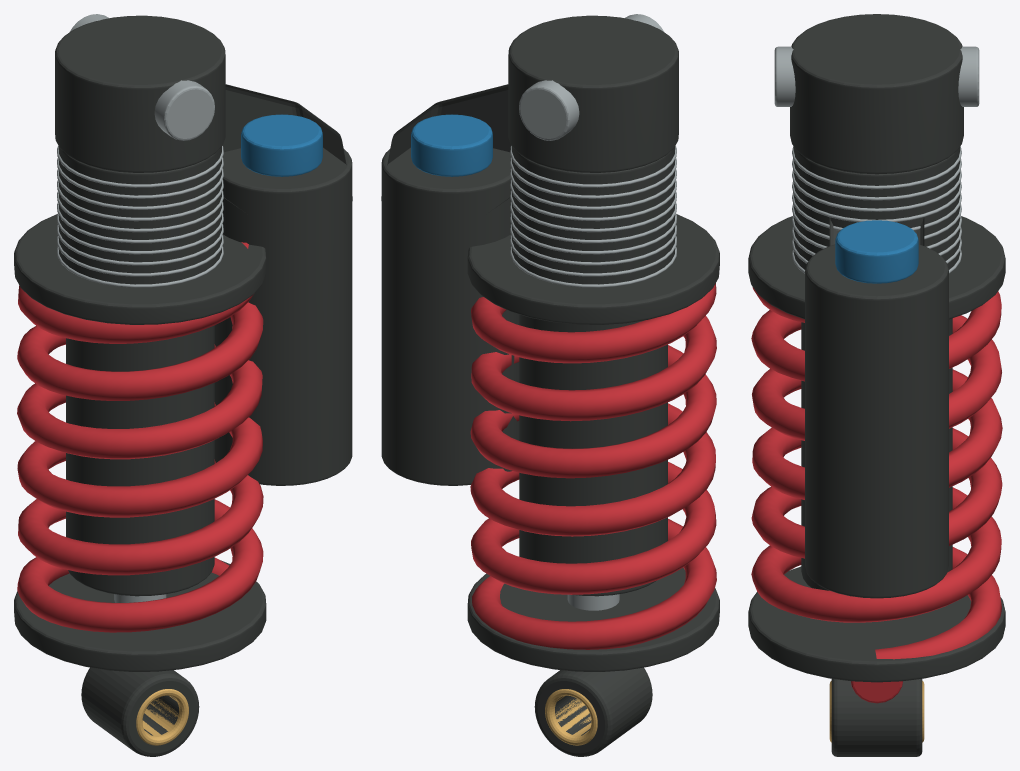
The model's file is rockshox-vivid-coil-ultimate-d1--b3498e50.glb.
3 views of the same model, side by side, from view 1: azimuth 30°, elevation 25°; view 2: azimuth 150°, elevation 25°; view 3: azimuth 270°, elevation 25° (orthographic).
Visible parts, largest first — view 1: rockshox-vivid-coil-ultimate-d1--b3498e50__link, rockshox-vivid-coil-ultimate-d1--b3498e50__rebound, rockshox-vivid-coil-ultimate-d1--b3498e50__bolts, rockshox-vivid-coil-ultimate-d1--b3498e50__adjuster, rockshox-vivid-coil-ultimate-d1--b3498e50__stanchions; view 2: rockshox-vivid-coil-ultimate-d1--b3498e50__link, rockshox-vivid-coil-ultimate-d1--b3498e50__rebound, rockshox-vivid-coil-ultimate-d1--b3498e50__bolts, rockshox-vivid-coil-ultimate-d1--b3498e50__adjuster, rockshox-vivid-coil-ultimate-d1--b3498e50__stanchions; view 3: rockshox-vivid-coil-ultimate-d1--b3498e50__link, rockshox-vivid-coil-ultimate-d1--b3498e50__rebound, rockshox-vivid-coil-ultimate-d1--b3498e50__bolts, rockshox-vivid-coil-ultimate-d1--b3498e50__adjuster.
Boxes of the visible parts, x1,y1,x2,y2 form: rockshox-vivid-coil-ultimate-d1--b3498e50__link: [14, 15, 352, 756]; rockshox-vivid-coil-ultimate-d1--b3498e50__rebound: [17, 242, 263, 632]; rockshox-vivid-coil-ultimate-d1--b3498e50__bolts: [57, 14, 223, 602]; rockshox-vivid-coil-ultimate-d1--b3498e50__adjuster: [241, 114, 322, 176]; rockshox-vivid-coil-ultimate-d1--b3498e50__stanchions: [136, 689, 188, 745]; rockshox-vivid-coil-ultimate-d1--b3498e50__link: [381, 15, 719, 756]; rockshox-vivid-coil-ultimate-d1--b3498e50__rebound: [470, 283, 716, 649]; rockshox-vivid-coil-ultimate-d1--b3498e50__bolts: [510, 14, 676, 610]; rockshox-vivid-coil-ultimate-d1--b3498e50__adjuster: [411, 114, 492, 176]; rockshox-vivid-coil-ultimate-d1--b3498e50__stanchions: [545, 689, 597, 745]; rockshox-vivid-coil-ultimate-d1--b3498e50__link: [748, 14, 1005, 756]; rockshox-vivid-coil-ultimate-d1--b3498e50__rebound: [751, 287, 1002, 703]; rockshox-vivid-coil-ultimate-d1--b3498e50__bolts: [774, 46, 979, 273]; rockshox-vivid-coil-ultimate-d1--b3498e50__adjuster: [835, 220, 918, 283].
Bounding box in the file's own units: 0.097 × 0.205 × 0.068.
